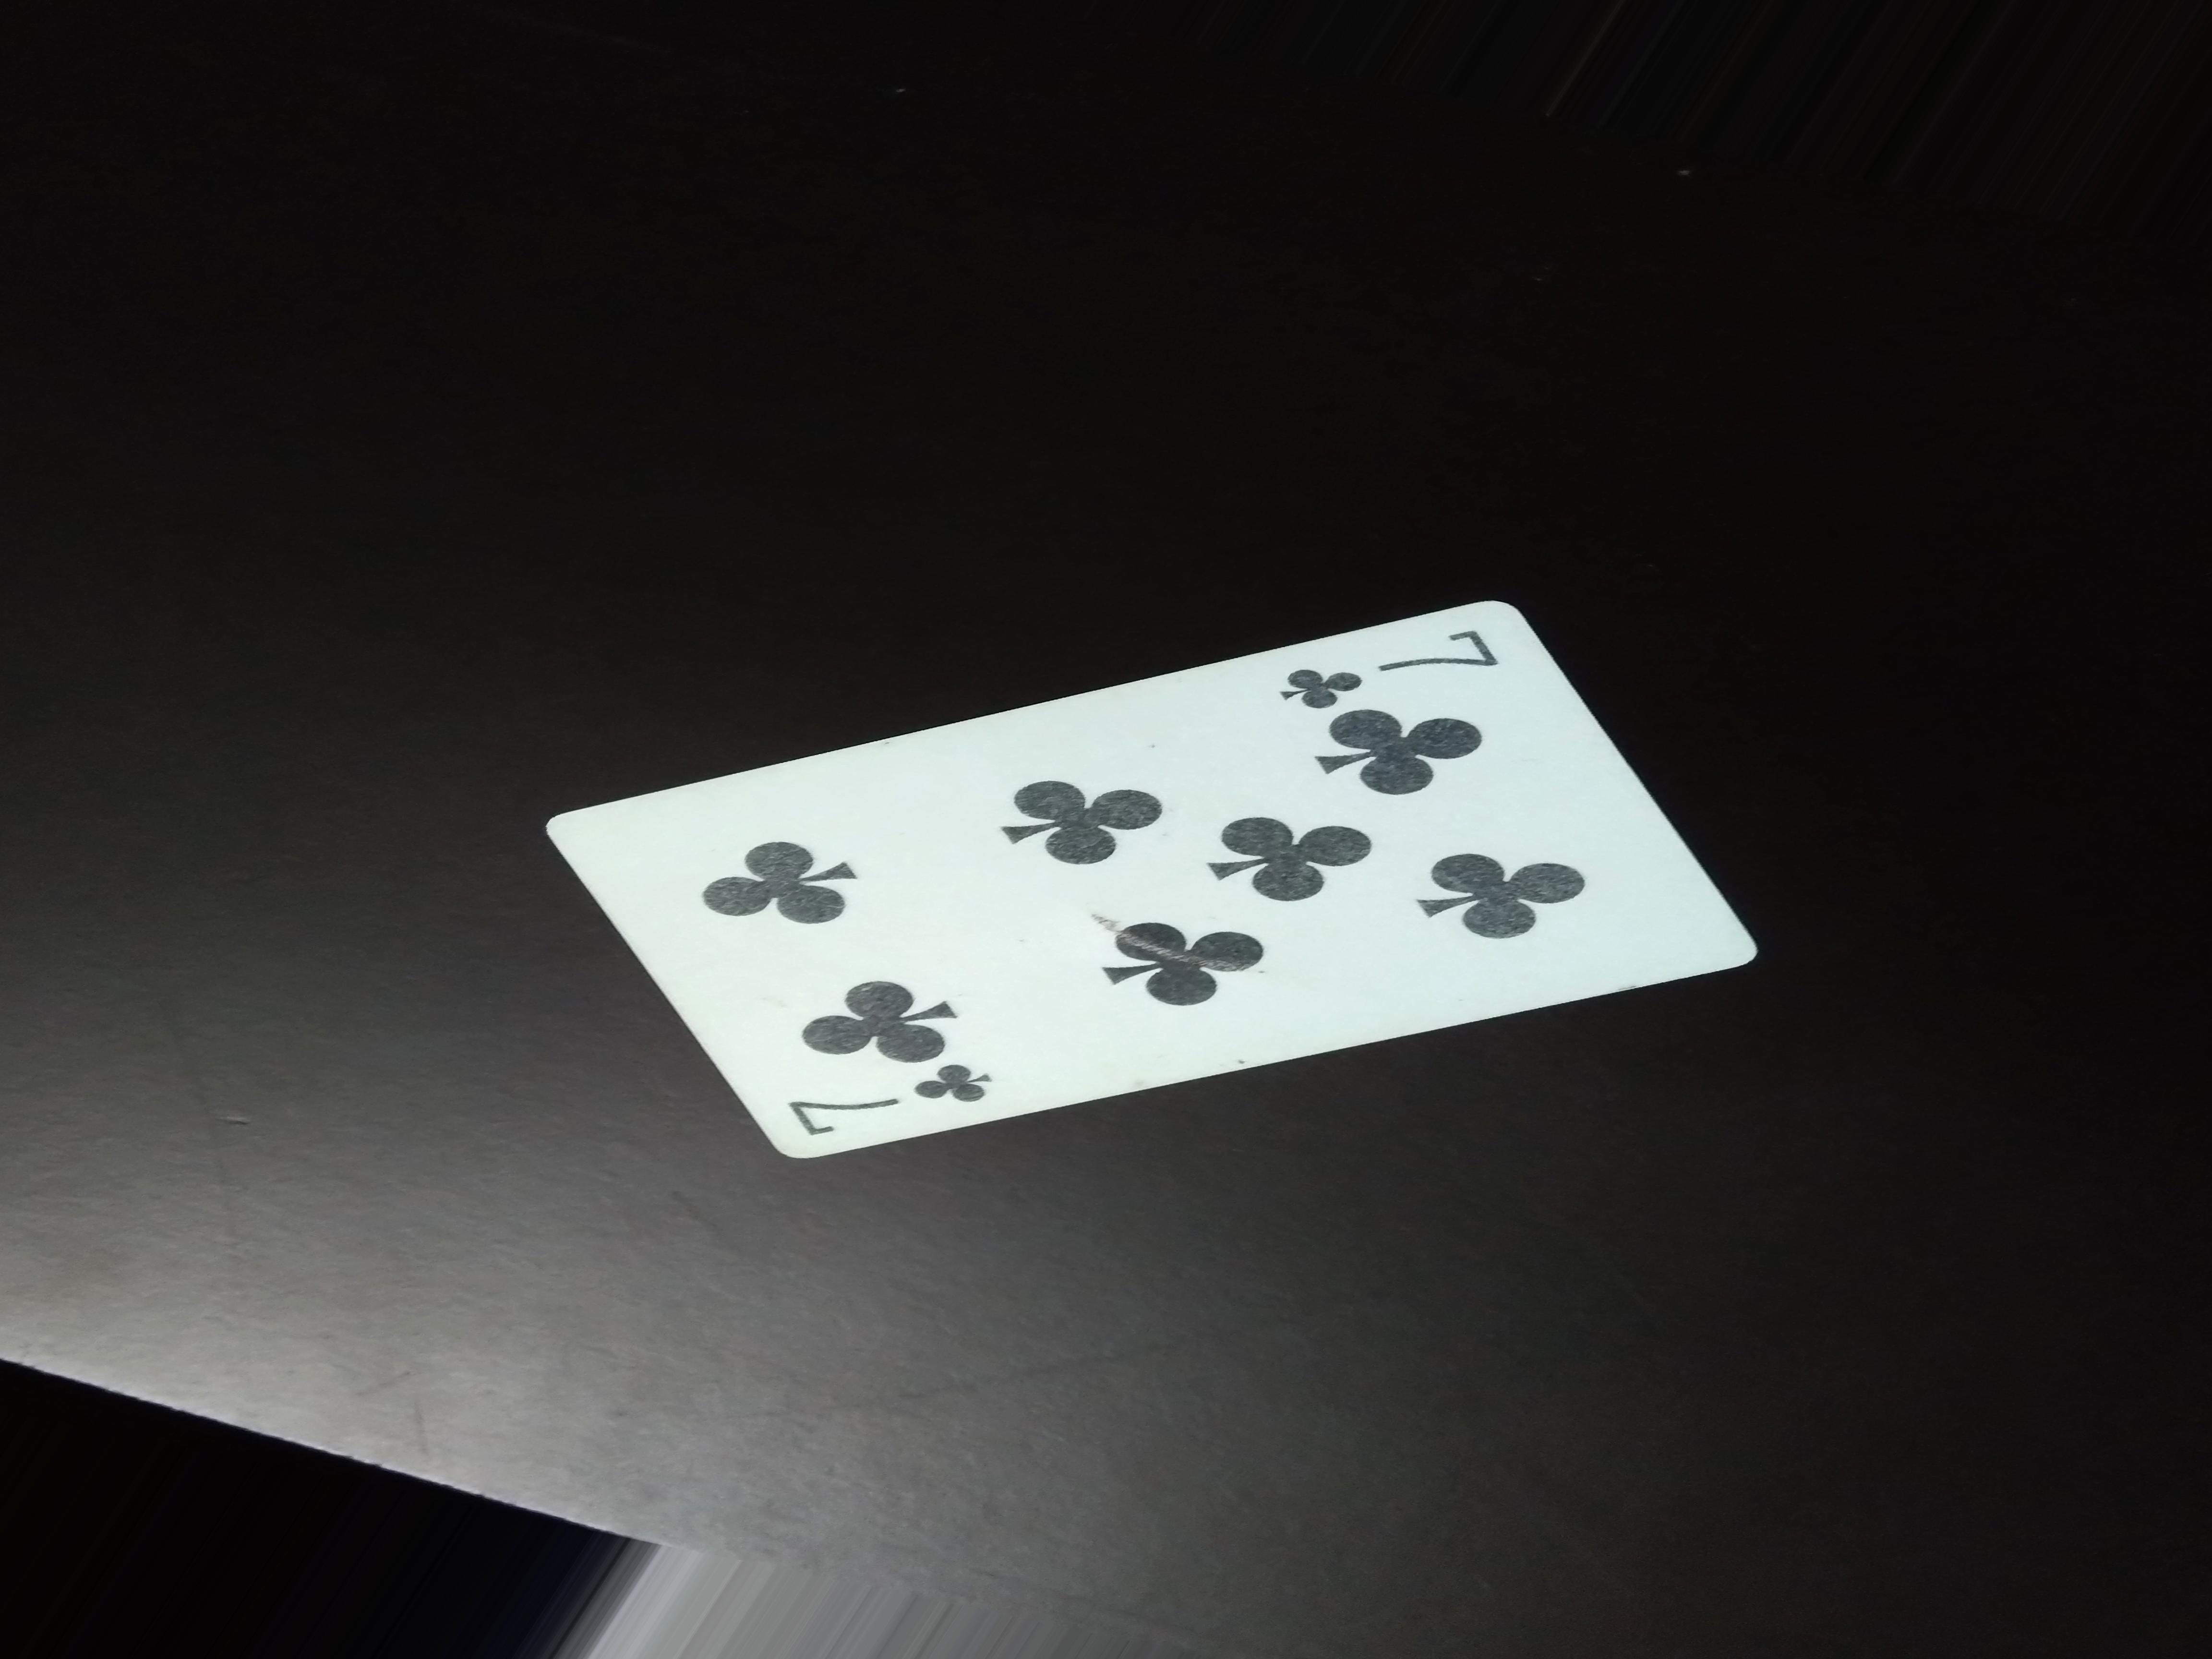7C: (1266, 612, 1510, 714)
